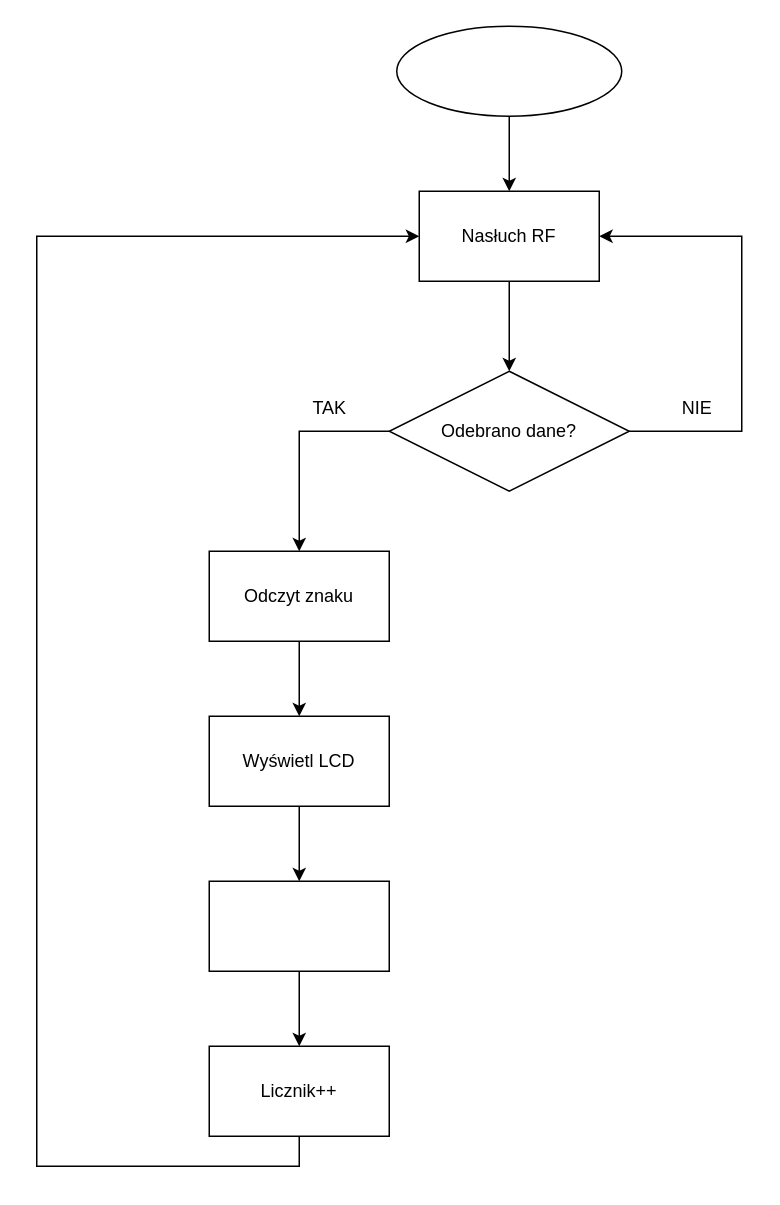
This 780x1205 diagram has some shape labels left out. The centre of each missing label's shape, as x and y in pixels:
"LED ON" belongs at [298,925].
"START" belongs at [508,70].
